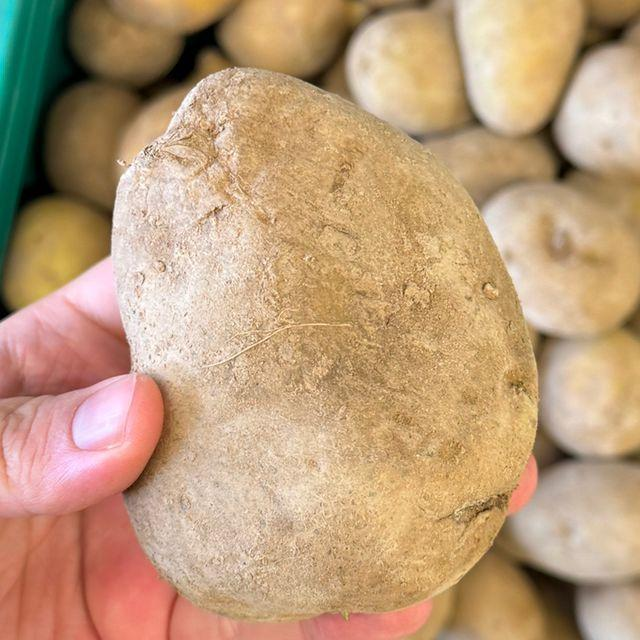potato: (55, 36, 552, 640)
